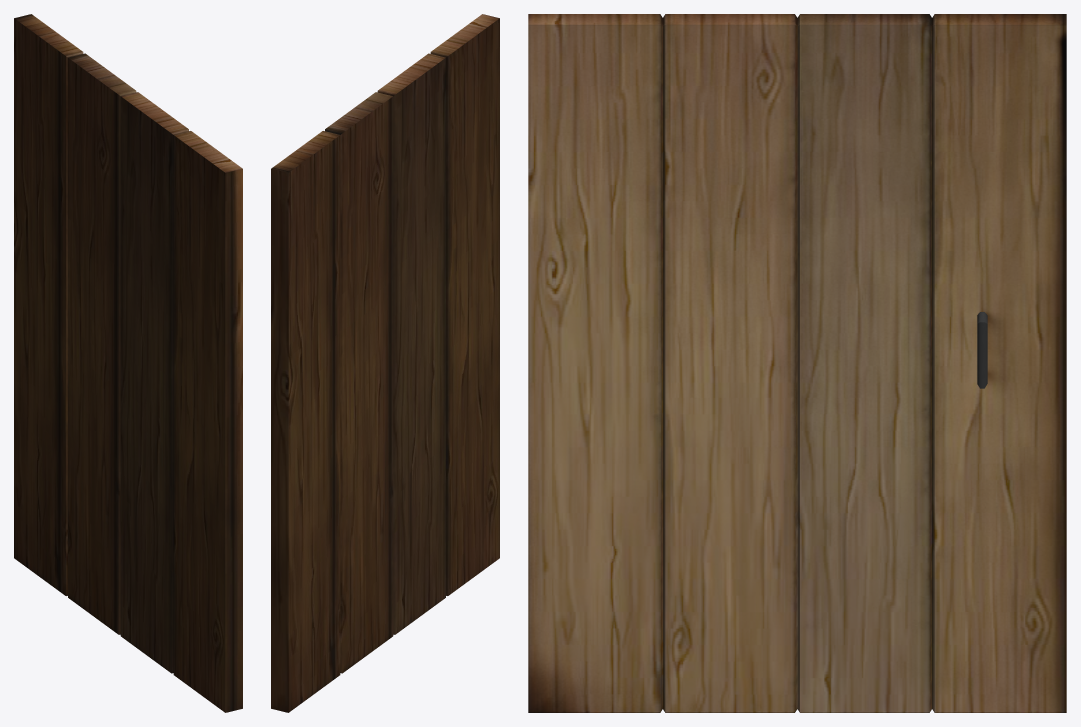
Rendered from DOOR.FBX.
The picture shows the model from 3 angles, left to right: view 1: azimuth 30°, elevation 25°; view 2: azimuth 150°, elevation 25°; view 3: azimuth 270°, elevation 25°; orthographic projection. The views are drawn at different scales.
Parts seen in each view (by area): view 1: Box009; view 2: Box009; view 3: Box009.
Boxes of the visible parts, <box> form: Box009: <box>14,14,242,712</box>; Box009: <box>271,14,499,712</box>; Box009: <box>528,14,1066,712</box>.
Size of the model in its own units: 3.95 by 60.32 by 42.78.
